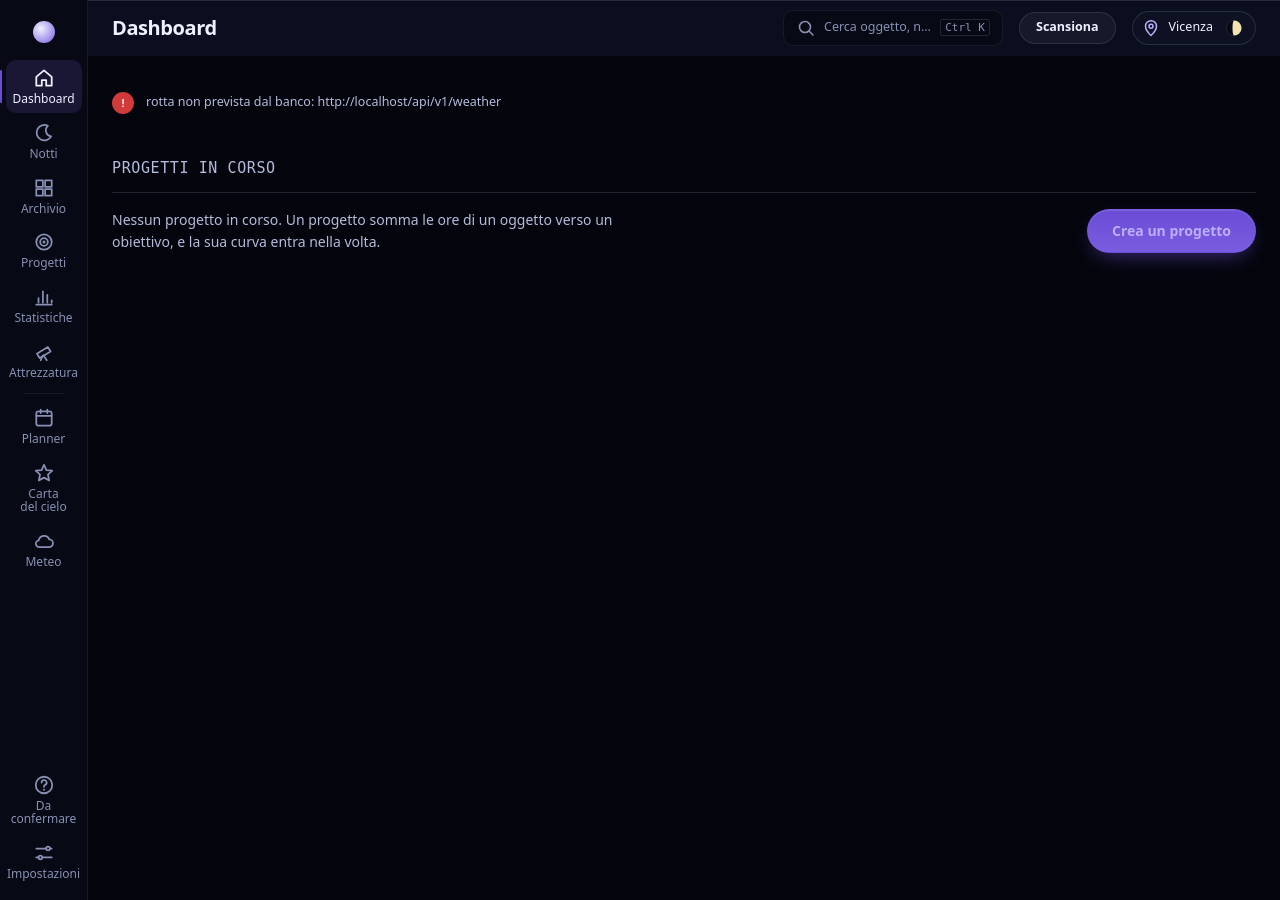
Test: la pastiglia › dice il sito, e apre Stanotte
The width and height of the screenshot is (1280, 900).
Expected: the element "Stanotte" is not shown
Click the button with aria-label "Stanotte a Vicenza" at (1194, 28), box [1132,10,1256,44]
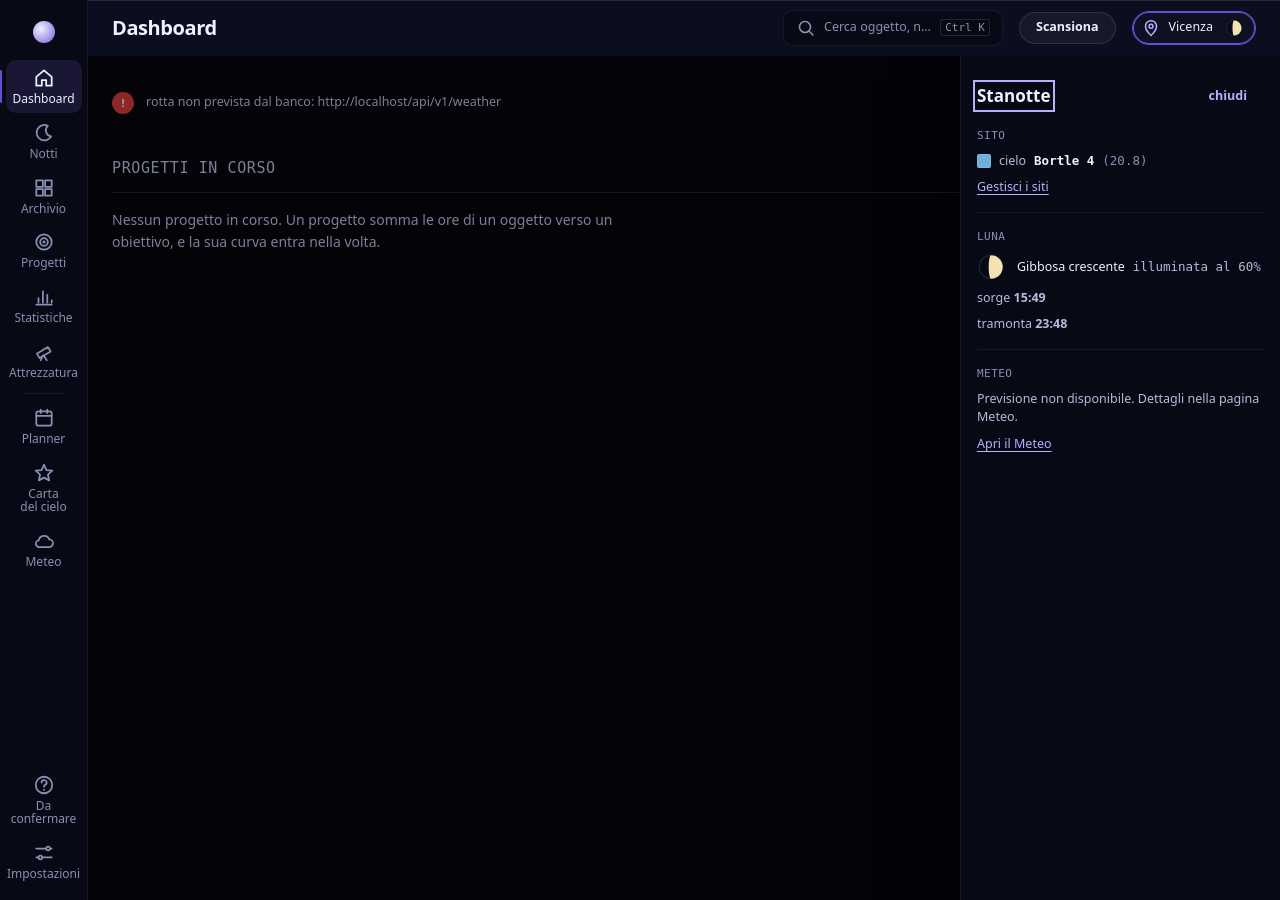
Now the button with aria-label "Stanotte a Vicenza" is expanded, box [1132,10,1256,44]
Now the element "Stanotte" is shown, box [960,56,1279,899]
